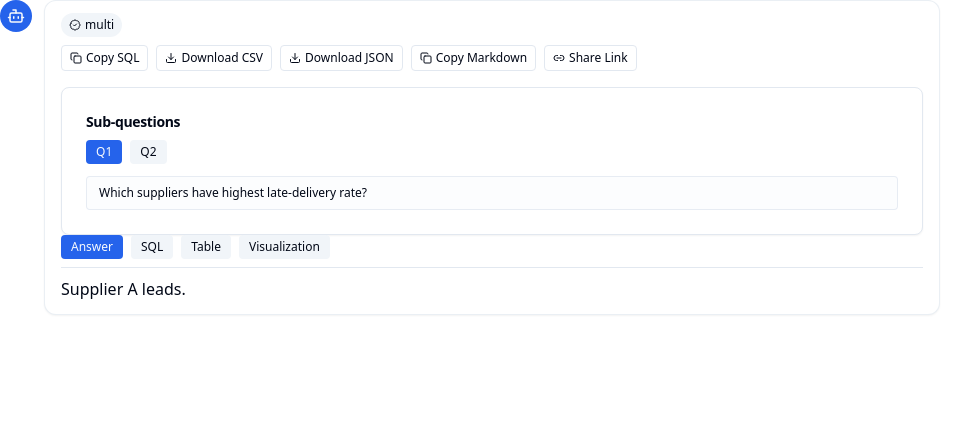
Test case: Message › supports toggling between multi-question sub-answers for SQL and table views
Expected: the text "Sub-questions" is shown, top-left (86, 112), bottom-right (180, 131)
Expected: the button "Q1" is shown, top-left (86, 140), bottom-right (122, 164)
Click the tab "SQL" at (152, 247), box top-left (131, 235), bottom-right (173, 259)
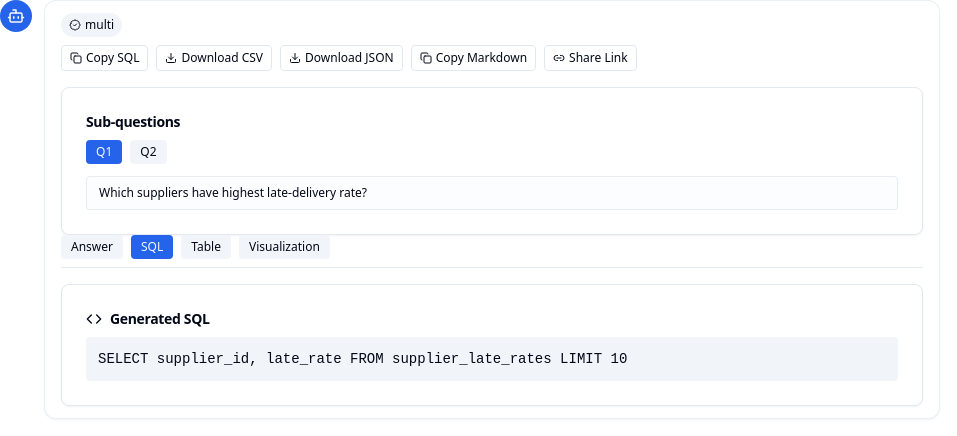
Expected: the text "supplier_late_rates" is shown, top-left (98, 351), bottom-right (627, 367)
Click the button "Q2" at (148, 152), box top-left (130, 140), bottom-right (167, 164)
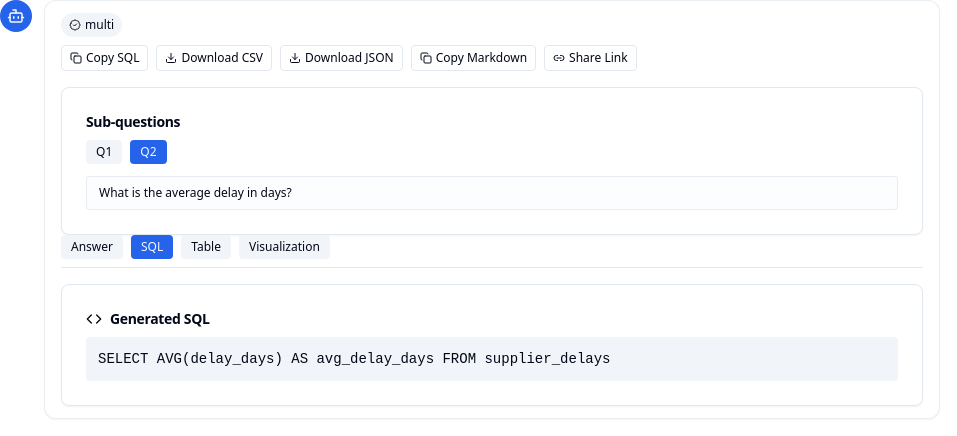
Expected: the text "What is the average delay in days?" is shown, top-left (99, 184), bottom-right (292, 201)
Expected: the text "avg_delay_days" is shown, top-left (98, 351), bottom-right (610, 367)
